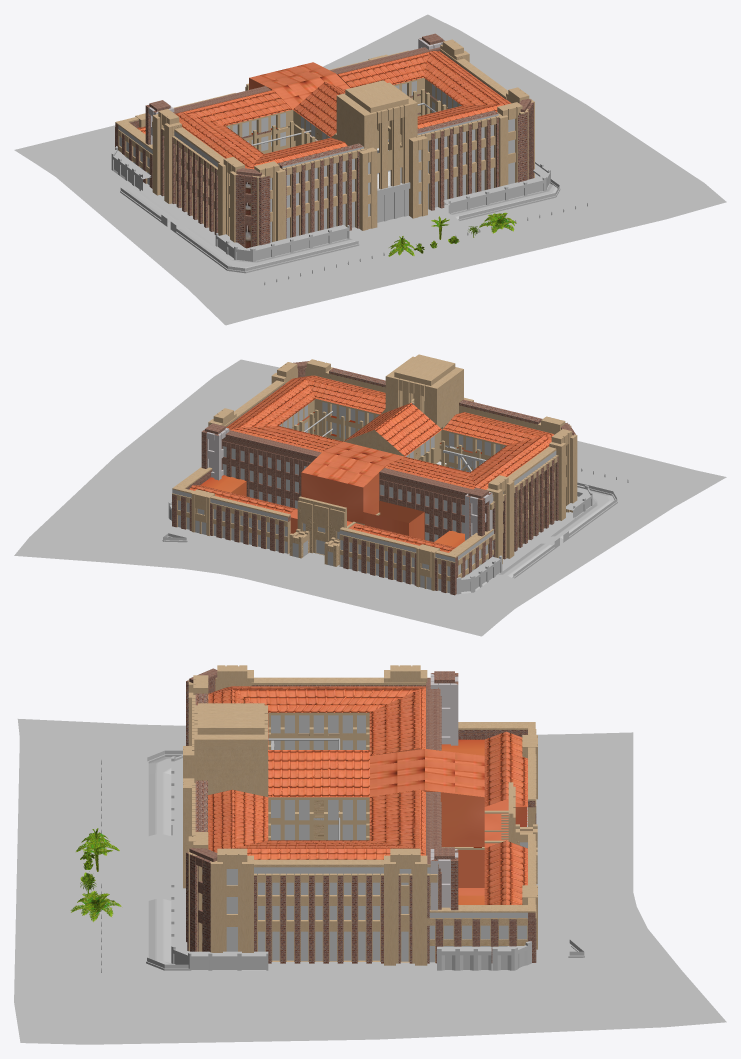
The model's file is antioquia vr modular .fbx.
3 views of the same model, one above another, from view 1: azimuth 30°, elevation 25°; view 2: azimuth 150°, elevation 25°; view 3: azimuth 270°, elevation 25° (orthographic). The views are drawn at different scales.
Parts seen in each view (by area): view 1: piso, tejas, pared frontal, Cube.008, sotano y zona verde, pared lateral alta, Cube.005, torreon front left, torreones frontales centro, BALCONES PATIO SEG PISO, torreon left back, torreon left front (+8 smaller); view 2: piso, tejas, pared trasera alta, pared trasera baja, pared lateral alta, Cube.008, BALCONES PATIO SEG PISO, entrada trasera, Cube.004, torreon left front, torreon left back, pared frontal (+8 smaller); view 3: piso, tejas, pared lateral alta, BALCONES PATIO SEG PISO, Cube.008, torreon left front, Cube.001, torreon left back, sotano y zona verde, Cube.004, Cube.005, sotano .001 (+13 smaller).
Part boxes in pixels (bbox=[...]): piso: bbox=[14, 14, 726, 325]; tejas: bbox=[137, 51, 511, 169]; pared frontal: bbox=[277, 110, 499, 238]; Cube.008: bbox=[336, 80, 417, 222]; sotano y zona verde: bbox=[248, 177, 554, 268]; pared lateral alta: bbox=[152, 49, 508, 234]; Cube.005: bbox=[235, 99, 533, 248]; torreon front left: bbox=[250, 102, 528, 247]; torreones frontales centro: bbox=[359, 135, 427, 230]; BALCONES PATIO SEG PISO: bbox=[226, 77, 461, 153]; torreon left back: bbox=[152, 39, 469, 203]; torreon left front: bbox=[218, 87, 534, 242]; piso: bbox=[14, 359, 726, 636]; tejas: bbox=[189, 375, 554, 552]; pared trasera alta: bbox=[221, 430, 488, 541]; pared trasera baja: bbox=[172, 486, 457, 595]; pared lateral alta: bbox=[224, 380, 558, 559]; Cube.008: bbox=[385, 354, 463, 449]; BALCONES PATIO SEG PISO: bbox=[279, 399, 506, 467]; entrada trasera: bbox=[289, 496, 346, 566]; Cube.004: bbox=[201, 423, 492, 540]; torreon left front: bbox=[271, 362, 577, 520]; torreon left back: bbox=[208, 408, 514, 563]; pared frontal: bbox=[329, 368, 542, 457]; piso: bbox=[14, 719, 726, 1044]; tejas: bbox=[208, 686, 527, 904]; pared lateral alta: bbox=[251, 677, 438, 963]; BALCONES PATIO SEG PISO: bbox=[268, 712, 369, 840]; Cube.008: bbox=[194, 703, 267, 796]; torreon left front: bbox=[210, 665, 253, 952]; Cube.001: bbox=[427, 722, 527, 963]; torreon left back: bbox=[384, 665, 427, 965]; sotano y zona verde: bbox=[145, 758, 187, 962]; Cube.004: bbox=[430, 671, 458, 910]; Cube.005: bbox=[186, 668, 217, 951]; sotano .001: bbox=[437, 941, 531, 970].
Bounding box in the file's own units: 465 × 110 × 430.
